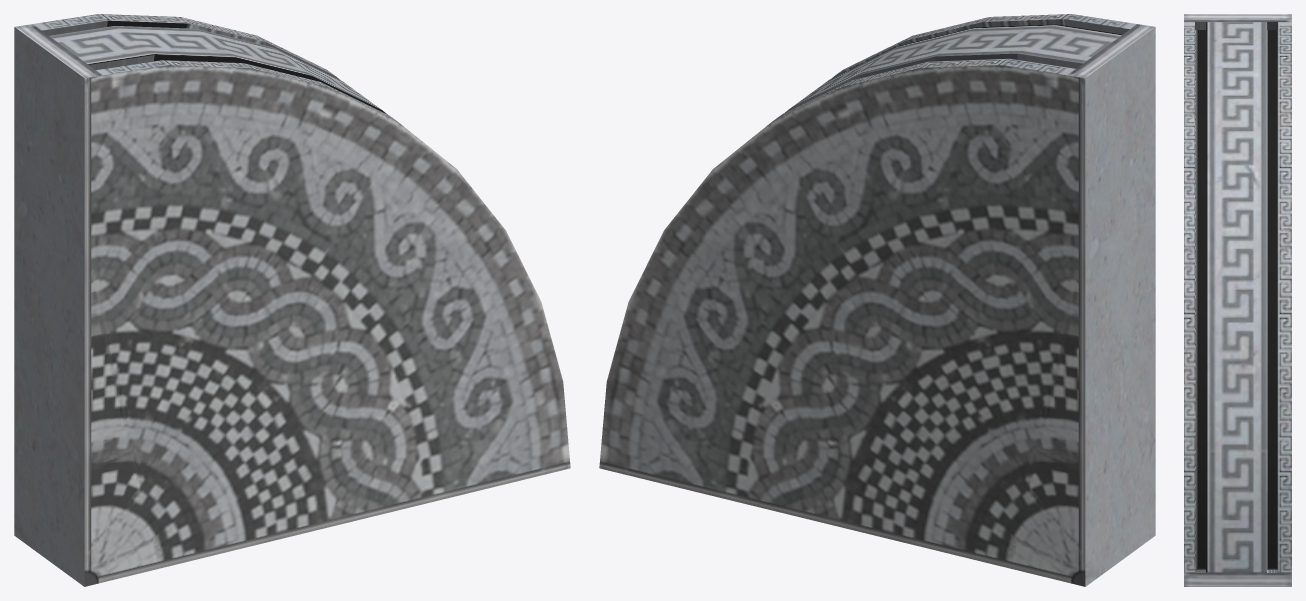
3 views of the same model, side by side, from view 1: azimuth 30°, elevation 25°; view 2: azimuth 150°, elevation 25°; view 3: azimuth 270°, elevation 25° (orthographic). The views are drawn at different scales.
Parts seen in each view (by area): view 1: Curve4_Set3; view 2: Curve4_Set3; view 3: Curve4_Set3.
Boxes of the visible parts, x1,y1,x2,y2 form: Curve4_Set3: (14, 14, 570, 586); Curve4_Set3: (599, 14, 1155, 586); Curve4_Set3: (1184, 14, 1291, 586).
Bounding box in the file's own units: 4 × 4 × 1.
